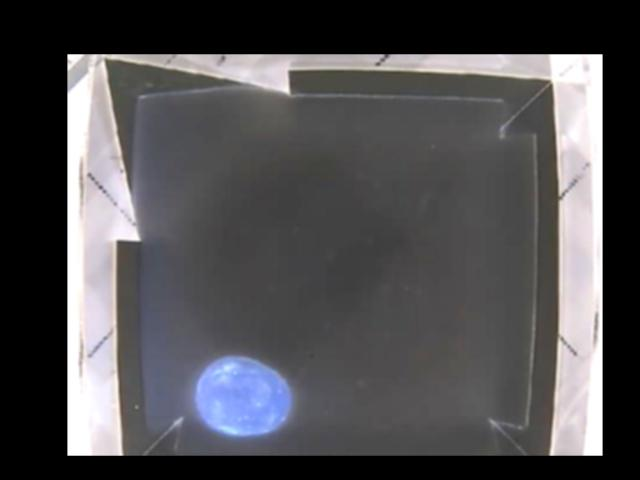Potato: (197, 354, 291, 433)
